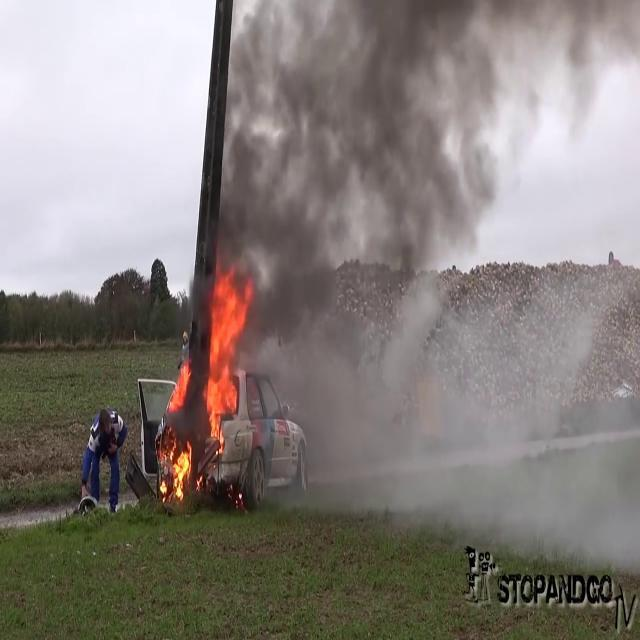Fire: (162, 250, 248, 510), (199, 252, 247, 456)
Smoke: (193, 0, 490, 283)
